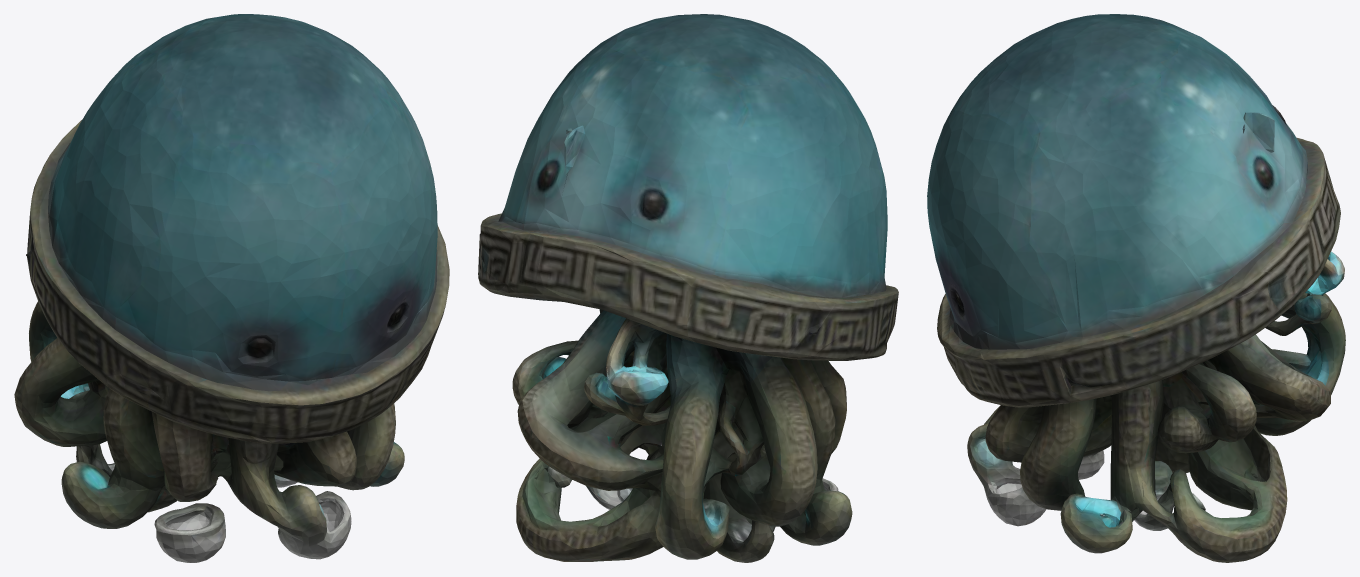
File: deepLantern.glb
The picture shows the model from 3 angles, left to right: view 1: azimuth 30°, elevation 25°; view 2: azimuth 150°, elevation 25°; view 3: azimuth 270°, elevation 25°; orthographic projection. The views are drawn at different scales.
Visible parts, largest first — view 1: world; view 2: world; view 3: world.
Part boxes in pixels (x1,y1,x2,y2): world: (14, 14, 449, 562); world: (478, 14, 898, 562); world: (927, 14, 1345, 562).
Bounding box in the file's own units: 0.772 × 0.9997 × 0.7834.
1 material, 1 textured.
